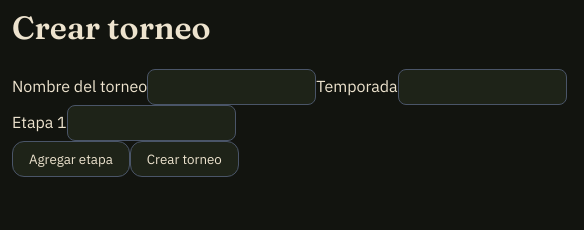
TournamentAdminPage › permite agregar y quitar etapas antes de crear el torneo
Check: the field labelled "Nombre del torneo" is shown, box [147,69,316,105]
Check: the number of fields labelled "Etapa 1" is 1, box [67,105,236,141]
Click the button "Agregar etapa": (71, 159) [12,141,130,177]
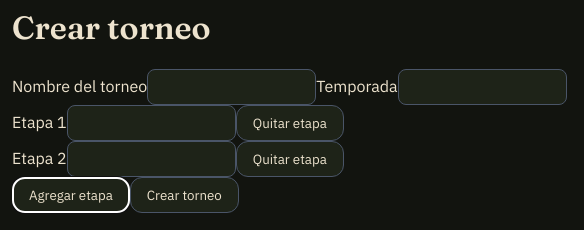
Check: the number of fields labelled "Etapa 1" is 2, box [67,105,236,141]; [67,141,236,177]
Click the 1st button "Quitar etapa": (290, 123) [236,105,344,141]
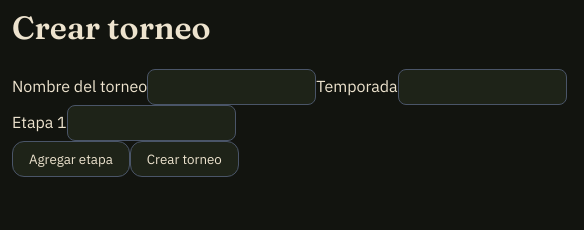
Check: the number of fields labelled "Etapa 1" is 1, box [67,105,236,141]
